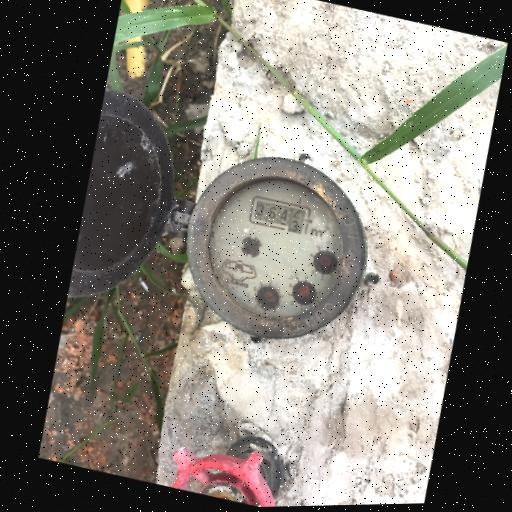2: (288, 209, 305, 234)
3: (253, 200, 269, 222)
4: (276, 205, 291, 227)
6: (264, 203, 279, 224)
border_water_meter_number: (246, 193, 313, 237)
